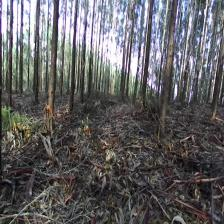trunk: (157, 30, 175, 130), (44, 11, 59, 130), (140, 22, 152, 100), (209, 59, 224, 116), (68, 21, 77, 112), (34, 2, 40, 101), (131, 47, 141, 103), (7, 24, 13, 105), (80, 36, 86, 104)
